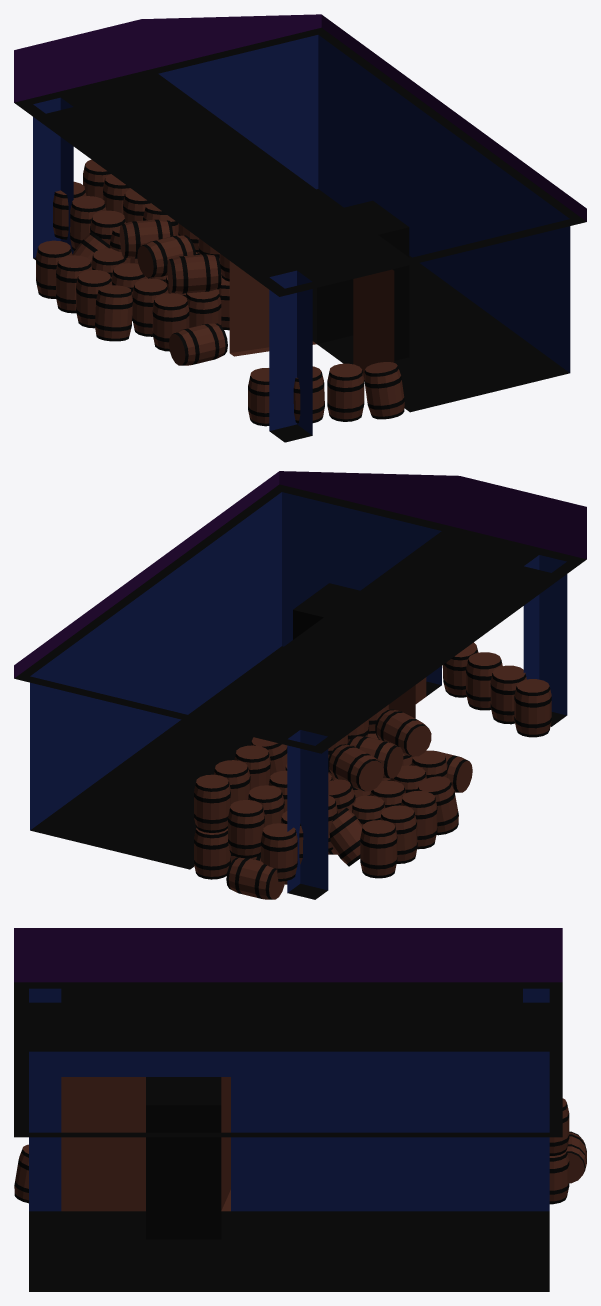
File: warehouse.fbx
3 renders of one model, top to bottom at view 1: azimuth 30°, elevation 25°; view 2: azimuth 150°, elevation 25°; view 3: azimuth 270°, elevation 25°, orthographic. The views are drawn at different scales.
Parts seen in each view (by area): view 1: Cube; view 2: Cube; view 3: Cube.
Boxes of the visible parts, x1,y1,x2,y2 form: Cube: (14,14,586,442); Cube: (14,471,586,899); Cube: (14,928,586,1291).
Bounding box in the file's own units: 2822 × 1680 × 4065.
